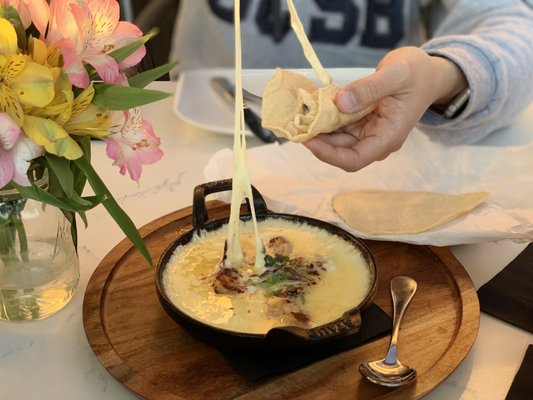salad: (360, 276, 418, 387)
sushi: (154, 202, 377, 350)
